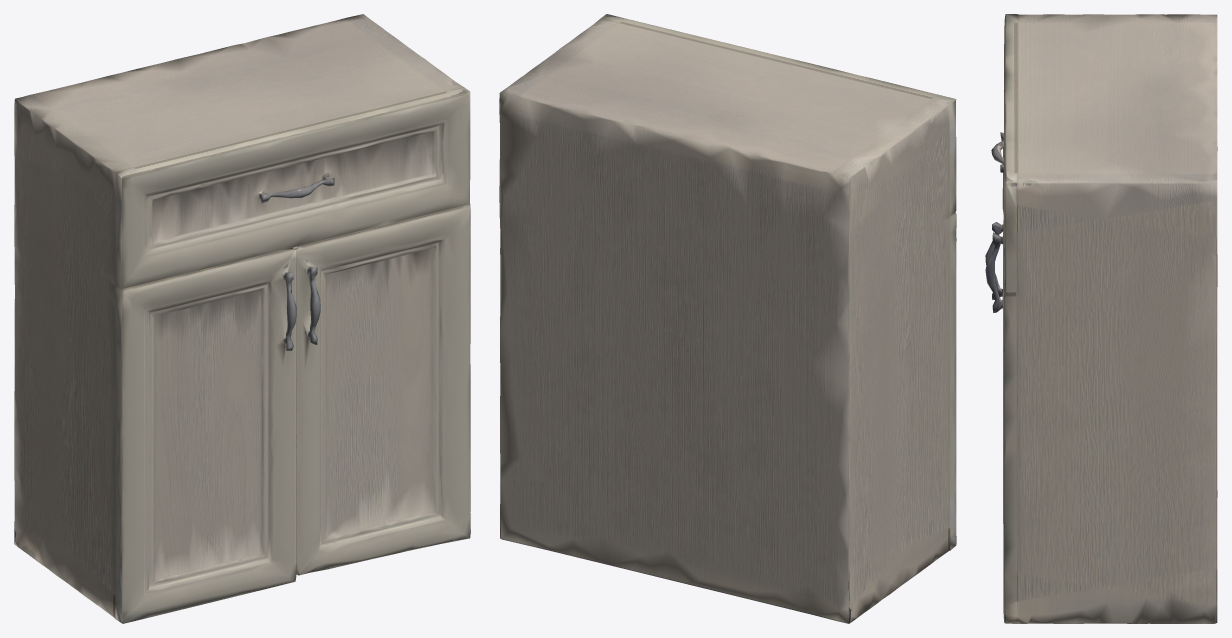
File: a57dacf1-4601-4040-b700-83561d68209c.glb
The picture shows the model from 3 angles, left to right: view 1: azimuth 30°, elevation 25°; view 2: azimuth 150°, elevation 25°; view 3: azimuth 270°, elevation 25°; orthographic projection.
Parts seen in each view (by area): view 1: Mesh_0; view 2: Mesh_0; view 3: Mesh_0.
Boxes of the visible parts, x1=… form: Mesh_0: x1=14, y1=14, x2=470, y2=623; Mesh_0: x1=499, y1=14, x2=956, y2=623; Mesh_0: x1=985, y1=14, x2=1217, y2=623.
Size of the model in its own units: 1.57 by 1.91 by 0.9096.
1 material, 1 textured.
